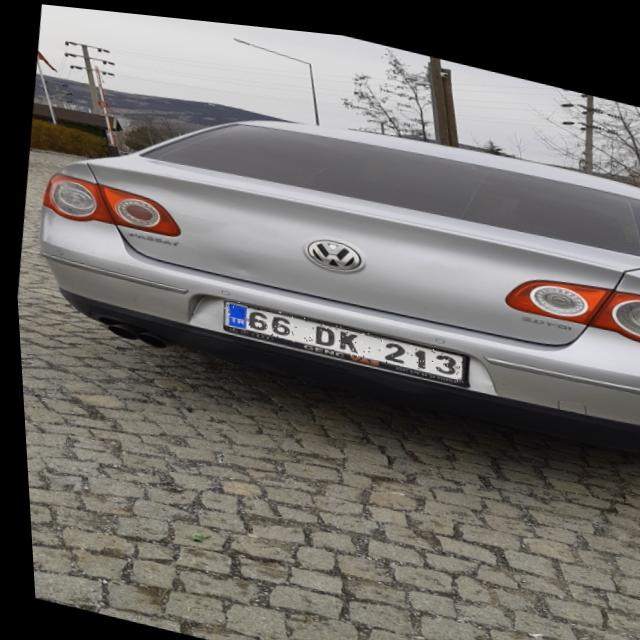plate: (218, 294, 463, 374)
